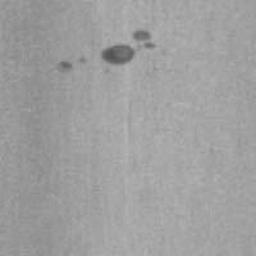Oil spot: (100, 44, 137, 67), (132, 29, 157, 50), (55, 59, 74, 74), (78, 55, 88, 64)
